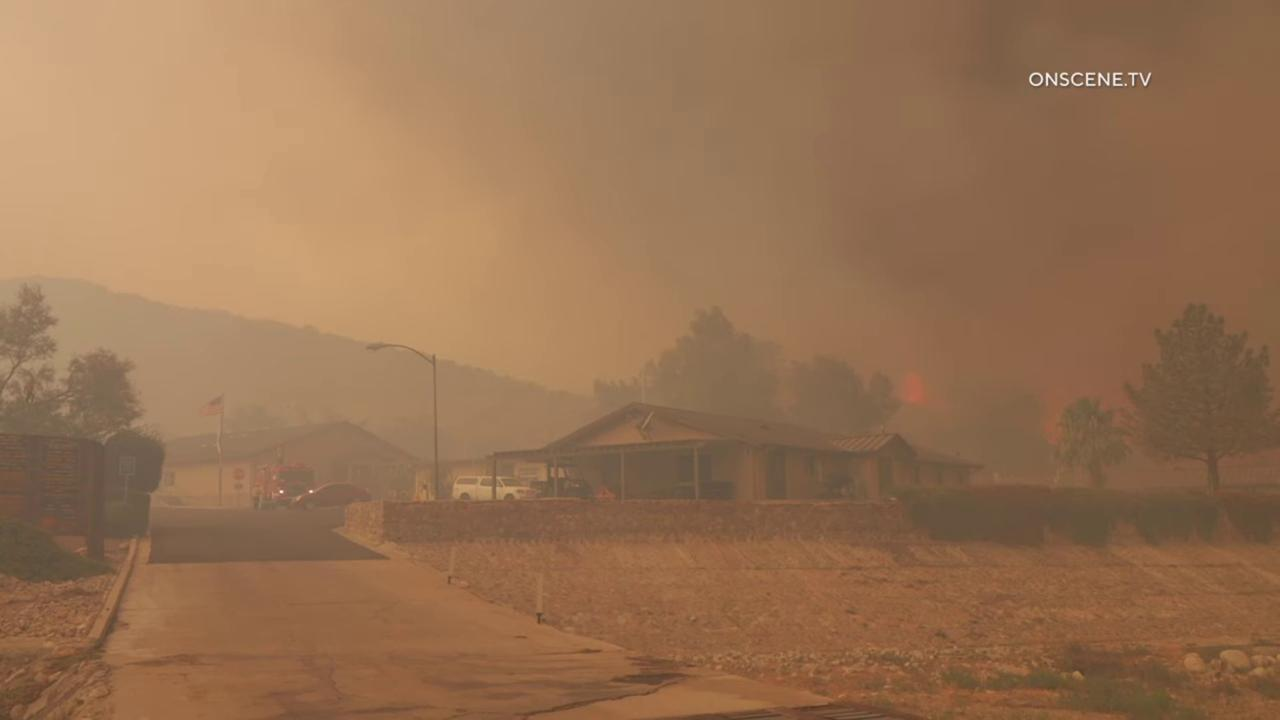fire: (894, 364, 931, 407)
smoke: (0, 0, 1280, 545)
